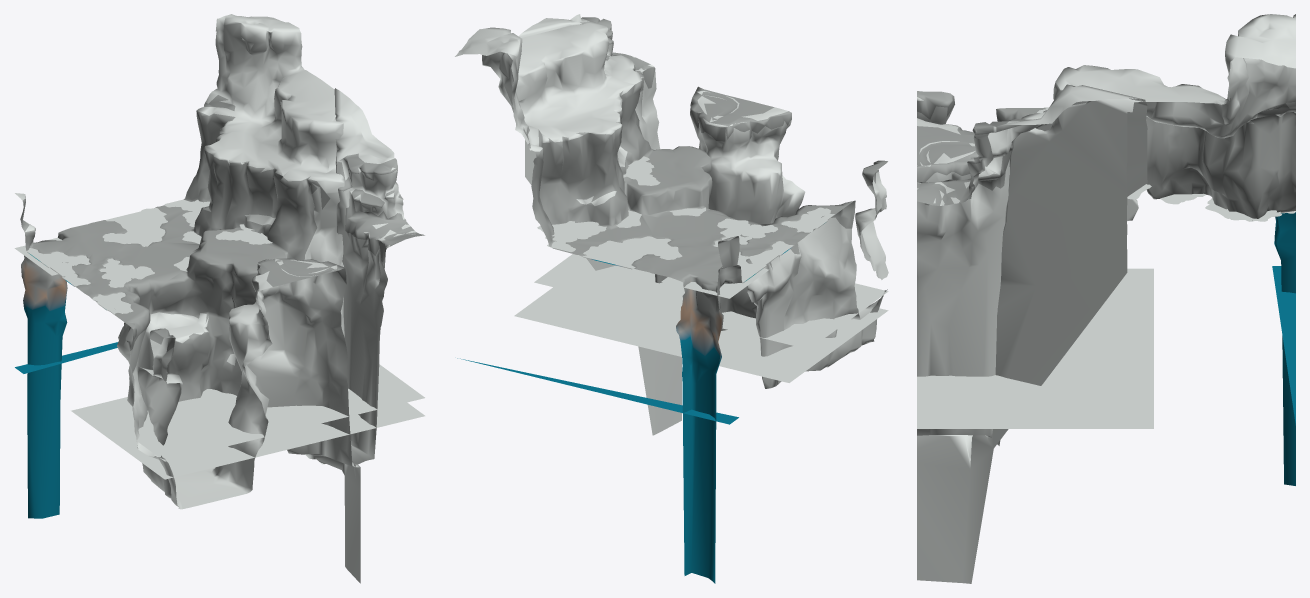
3 renders of one model, left to right at view 1: azimuth 30°, elevation 25°; view 2: azimuth 150°, elevation 25°; view 3: azimuth 270°, elevation 25°, orthographic. The views are drawn at different scales.
Visible parts, largest first — view 1: G:\FFXIV-MapTools\exports\s1f6\bg\ffxiv\sea_s1\fld\s1f6\bgpl (×15); view 2: G:\FFXIV-MapTools\exports\s1f6\bg\ffxiv\sea_s1\fld\s1f6\bgpl (×13); view 3: G:\FFXIV-MapTools\exports\s1f6\bg\ffxiv\sea_s1\fld\s1f6\bgpl (×15).
Boxes of the visible parts, x1=… form: G:\FFXIV-MapTools\exports\s1f6\bg\ffxiv\sea_s1\fld\s1f6\bgpl (×15): x1=15, y1=14, x2=424, y2=583; G:\FFXIV-MapTools\exports\s1f6\bg\ffxiv\sea_s1\fld\s1f6\bgpl (×13): x1=455, y1=14, x2=888, y2=583; G:\FFXIV-MapTools\exports\s1f6\bg\ffxiv\sea_s1\fld\s1f6\bgpl (×15): x1=917, y1=14, x2=1295, y2=583.
Bounding box in the file's own units: 128 × 214 × 128.
